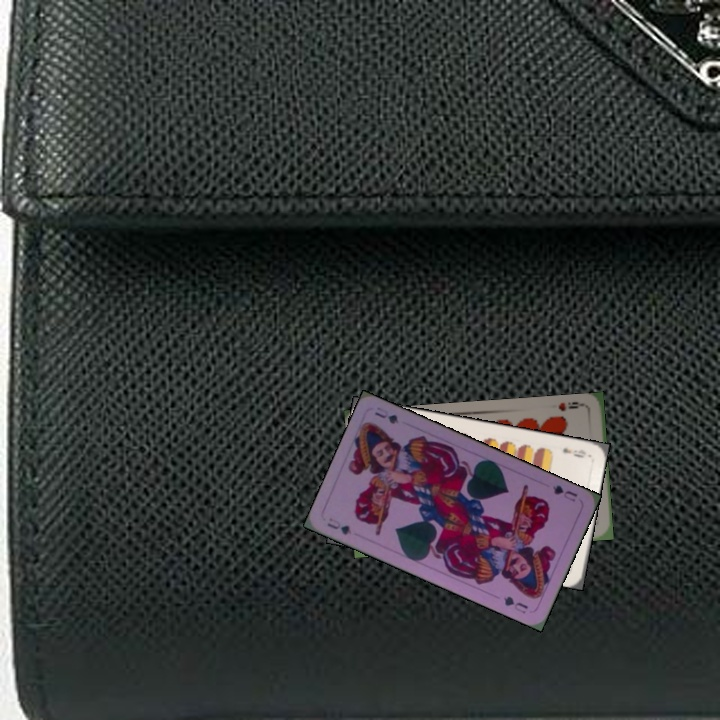E9: (559, 444, 589, 460)
GU: (323, 514, 354, 538), (548, 481, 580, 504)
H9: (554, 398, 588, 413)
